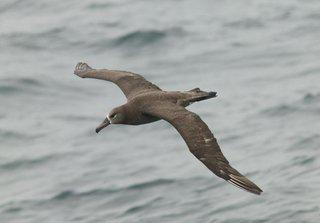001.Black_footed_Albatross: (75, 59, 263, 194)
